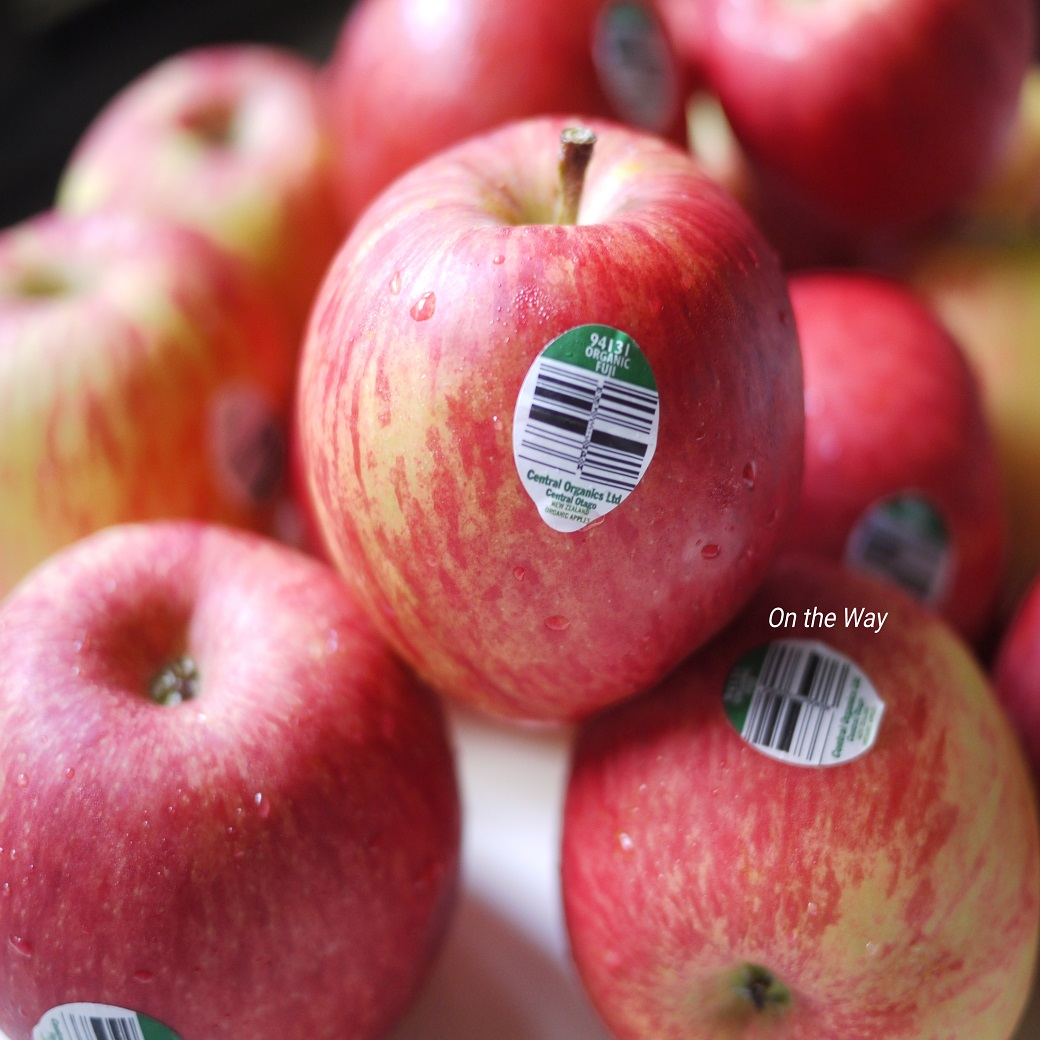apple: (294, 124, 807, 722), (1, 523, 480, 1040)
